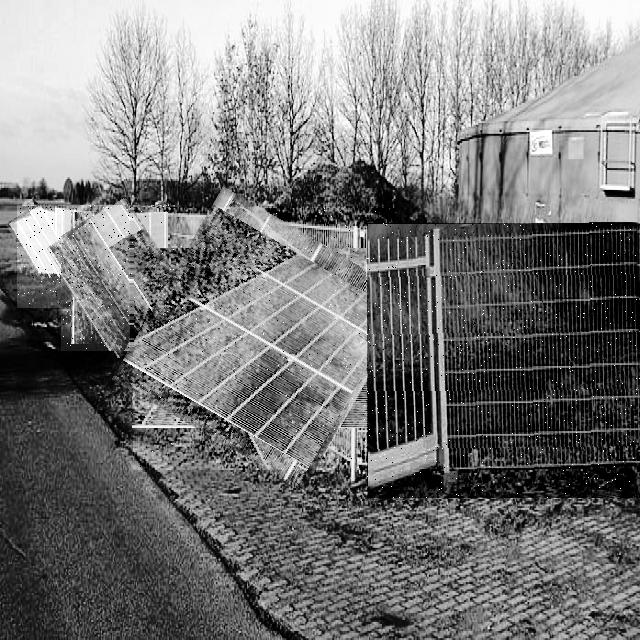fences: (367, 223, 640, 498), (133, 207, 395, 470), (62, 205, 184, 351), (17, 205, 80, 308)
